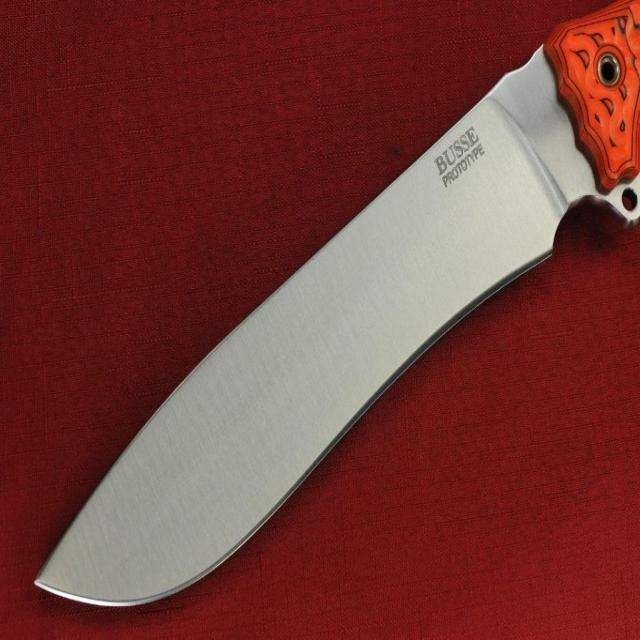Knife: (36, 0, 640, 606)
